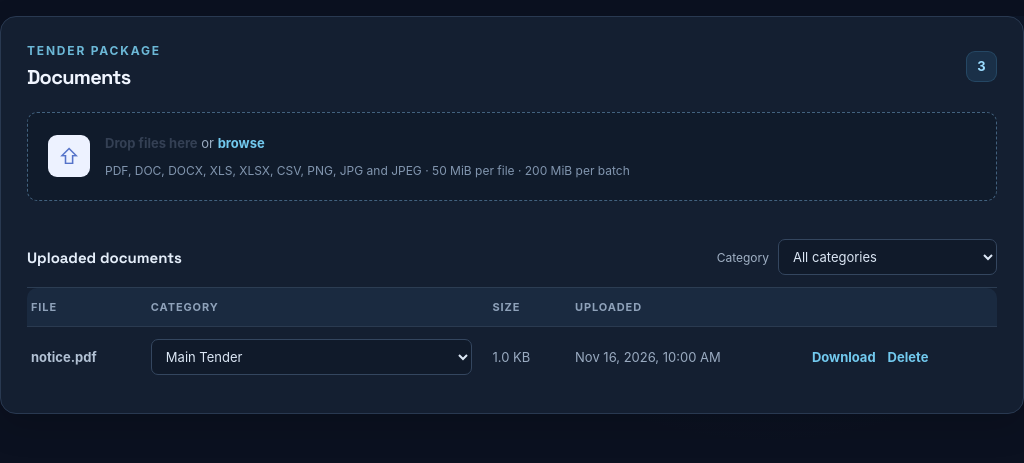
Test: tender document management › downloads a document as a blob using its original filename
Expected: the text "notice.pdf" is shown, [31,349,97,365]
Click the button "Download": click(844, 357) [812,349,876,365]
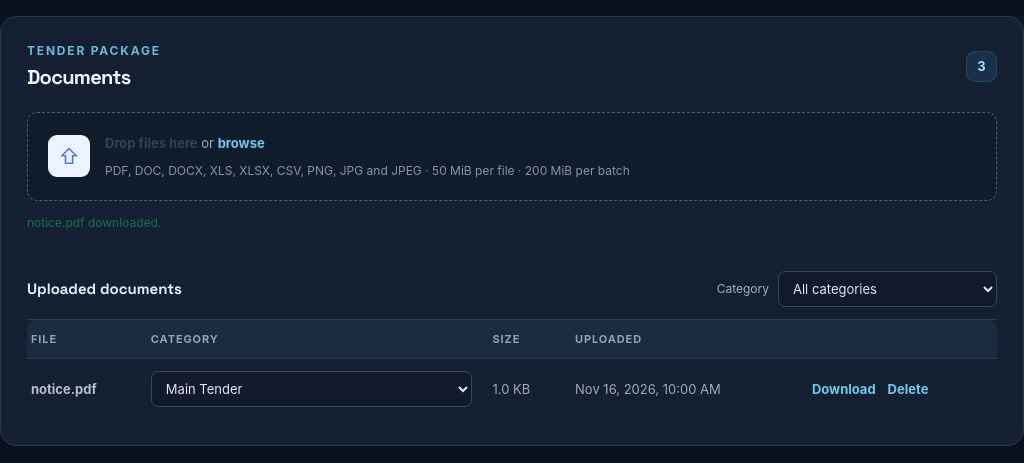
Result: the text "notice.pdf downloaded." is shown at [27,215,161,230]
